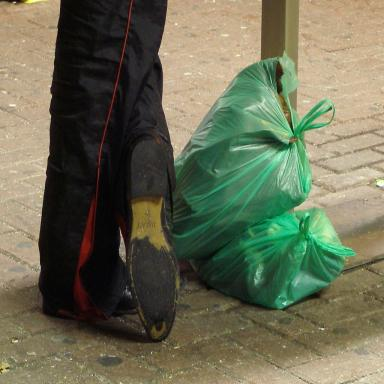plasticbag: (170, 45, 334, 257), (193, 206, 355, 308)
